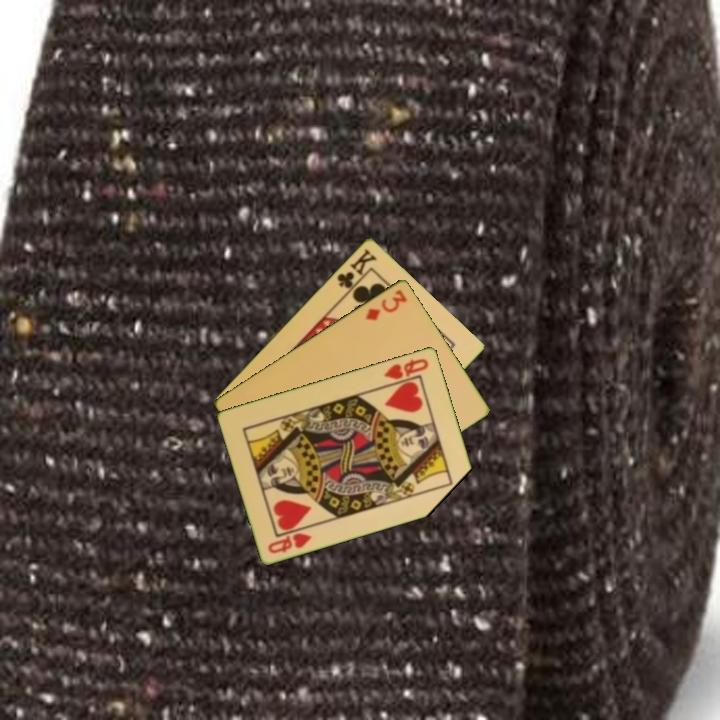3d: (362, 286, 410, 323)
Kc: (333, 245, 379, 297)
Qh: (380, 355, 431, 382), (265, 529, 315, 556)
